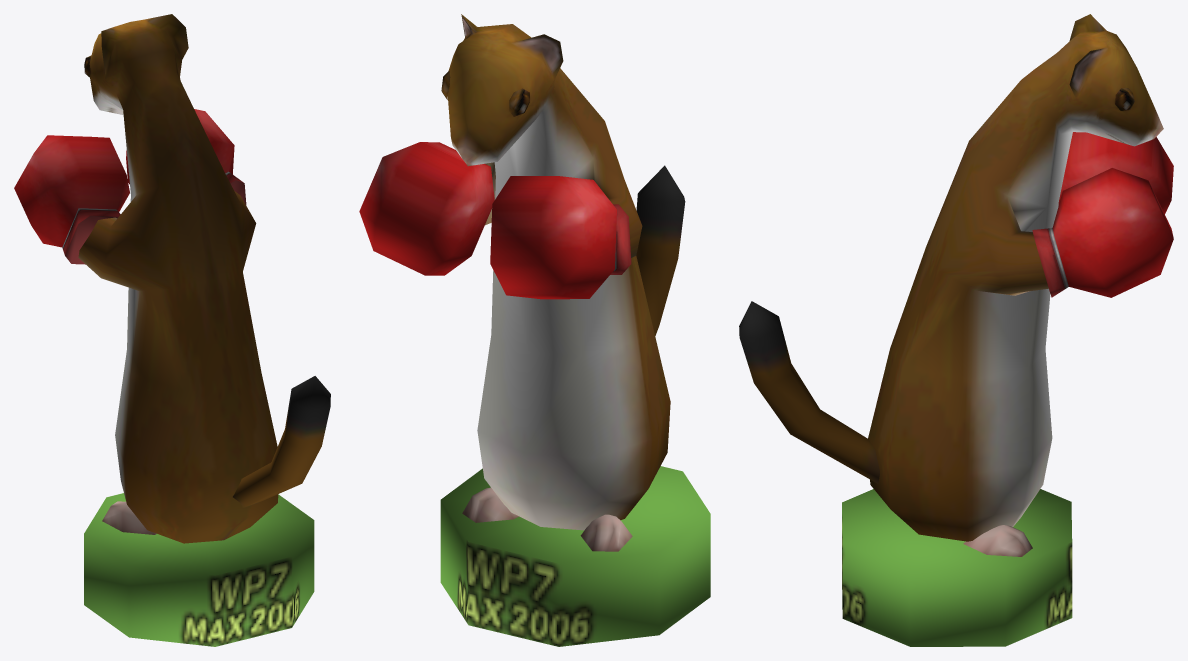
The model's file is wp7_vs.ico.obj.
3 renders of one model, left to right at view 1: azimuth 30°, elevation 25°; view 2: azimuth 150°, elevation 25°; view 3: azimuth 270°, elevation 25°, orthographic. The views are drawn at different scales.
Bounding box in the file's own units: 1.97 × 4.95 × 3.45.
1 material, 1 textured.
